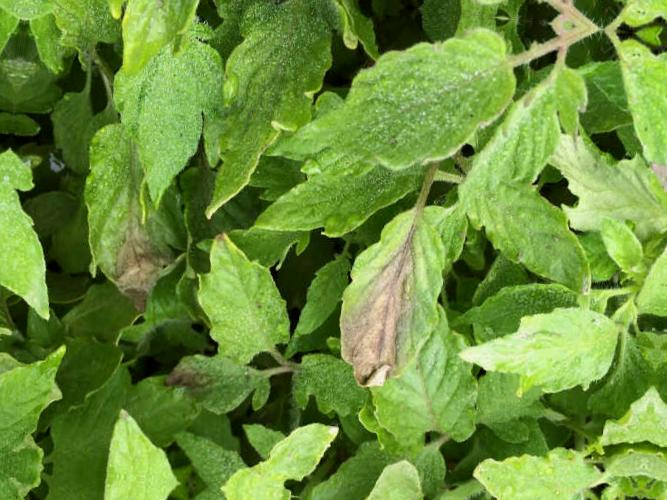Tomato mold leaf: (269, 8, 525, 182), (181, 0, 341, 236), (313, 191, 480, 396), (433, 40, 615, 220), (65, 107, 196, 316), (431, 172, 605, 299), (123, 18, 225, 217), (438, 296, 624, 390), (192, 238, 309, 368)
